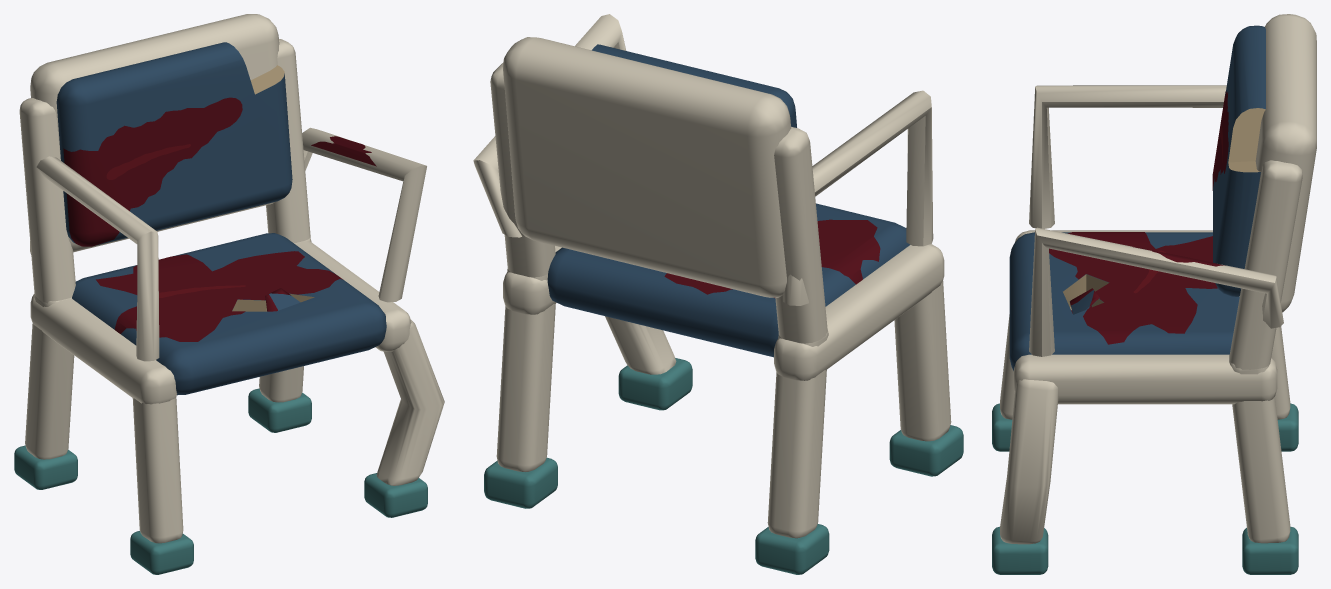
Rendered from break_chair.glb.
3 renders of one model, left to right at view 1: azimuth 30°, elevation 25°; view 2: azimuth 150°, elevation 25°; view 3: azimuth 270°, elevation 25°, orthographic. The views are drawn at different scales.
Parts seen in each view (by area): view 1: Outbreak_11_standard_chair_left_Static; view 2: Outbreak_11_standard_chair_left_Static; view 3: Outbreak_11_standard_chair_left_Static.
Boxes of the visible parts, <box> form: Outbreak_11_standard_chair_left_Static: <box>14,14,444,574</box>; Outbreak_11_standard_chair_left_Static: <box>473,14,963,574</box>; Outbreak_11_standard_chair_left_Static: <box>992,14,1316,574</box>.
Size of the model in its own units: 0.7246 by 0.9238 by 0.6243.
